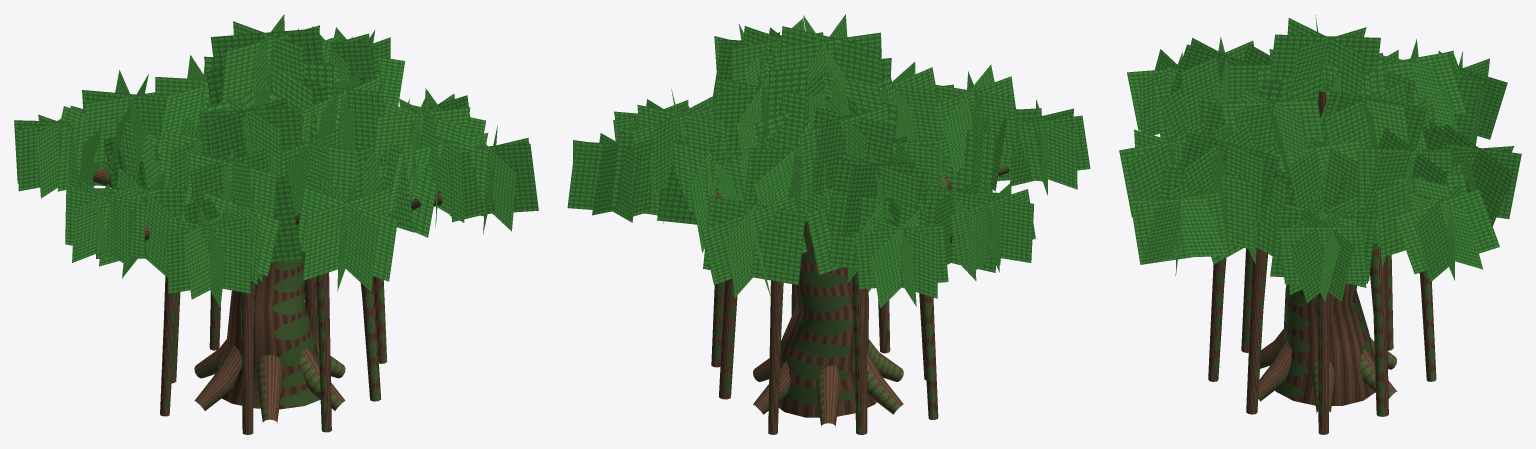
File: banyan_tree.glb
3 renders of one model, left to right at view 1: azimuth 30°, elevation 25°; view 2: azimuth 150°, elevation 25°; view 3: azimuth 270°, elevation 25°, orthographic. The views are drawn at different scales.
Visible parts, largest first — view 1: Node_BanyanTree; view 2: Node_BanyanTree; view 3: Node_BanyanTree.
Boxes of the visible parts, <box> form: Node_BanyanTree: <box>14,14,538,434</box>; Node_BanyanTree: <box>567,14,1090,434</box>; Node_BanyanTree: <box>1119,15,1521,434</box>.
Size of the model in its own units: 17.78 by 15.28 by 15.68.
2 materials, 2 textured.
